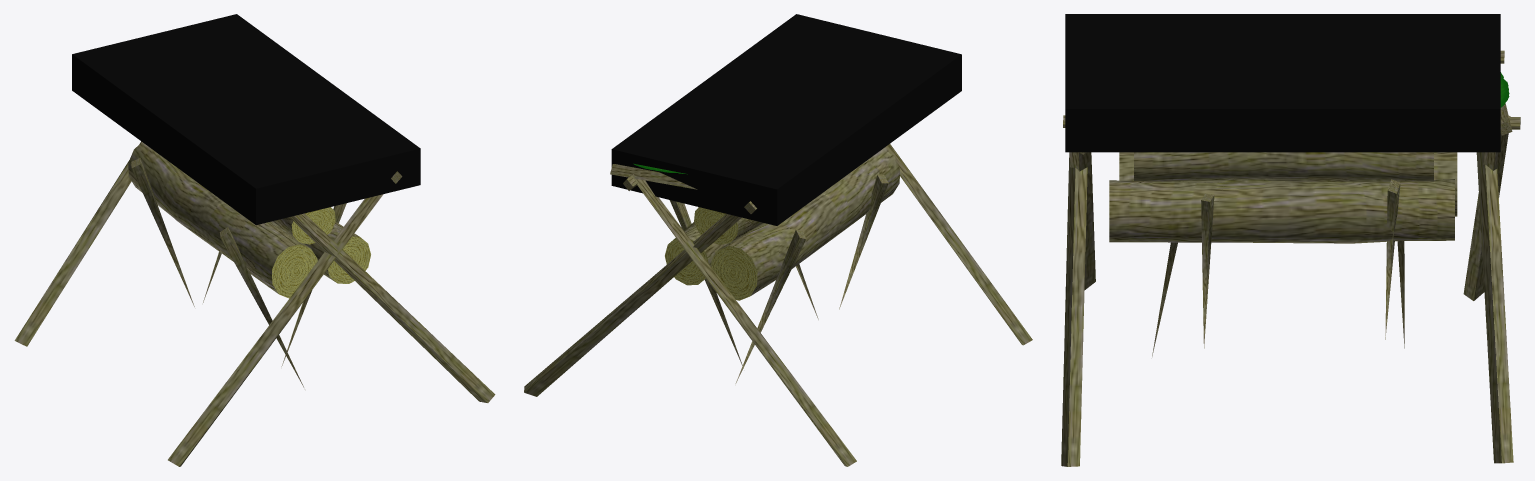
Rendered from woodstorage.obj.
The picture shows the model from 3 angles, left to right: view 1: azimuth 30°, elevation 25°; view 2: azimuth 150°, elevation 25°; view 3: azimuth 270°, elevation 25°; orthographic projection. The views are drawn at different scales.
Visible parts, largest first — view 1: Box01, Duplicate01, Cylinder02, Duplicate03, Duplicate02; view 2: Box01, Cylinder02, Duplicate01, Duplicate02, Duplicate03, Duplicate05, Duplicate06; view 3: Box01, Cylinder02, Duplicate01, Duplicate04, Duplicate05, Duplicate03.
Boxes of the visible parts, x1,y1,x2,y2 form: Box01: (72, 14, 420, 225); Duplicate01: (14, 141, 495, 466); Cylinder02: (128, 142, 359, 293); Duplicate03: (219, 227, 303, 387); Duplicate02: (131, 157, 194, 306); Box01: (524, 14, 961, 396); Cylinder02: (671, 147, 899, 295); Duplicate01: (630, 144, 1032, 466); Duplicate02: (665, 207, 806, 383); Duplicate03: (839, 174, 888, 309); Duplicate05: (623, 176, 742, 365); Duplicate06: (610, 164, 697, 189); Box01: (1065, 14, 1513, 463); Cylinder02: (1109, 152, 1457, 243); Duplicate01: (1061, 115, 1510, 466); Duplicate04: (1201, 50, 1504, 348); Duplicate05: (1063, 115, 1520, 339); Duplicate03: (1152, 242, 1177, 356).
Size of the model in its own units: 73.25 by 57.27 by 74.41.
